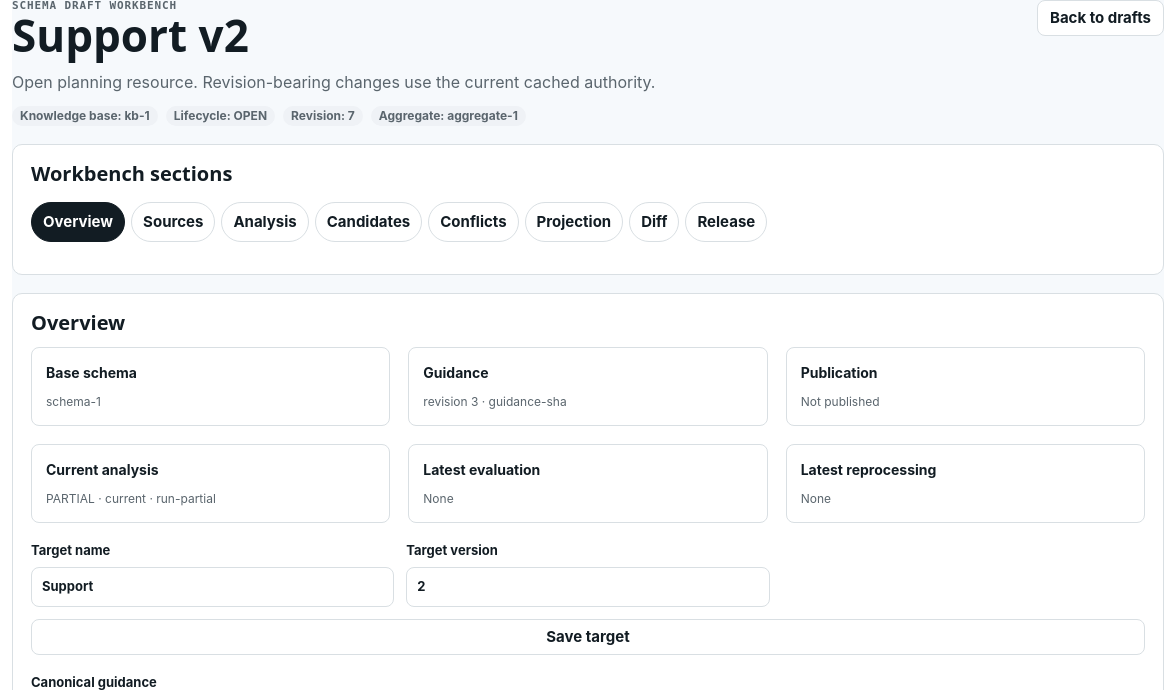
Scenario: SchemaDraftsPage › uses canRetry=true for Retry while preserving retryable=true diagnostics
Step 1. Click the tab "Analysis" → (265, 222), box [221,202,309,242]
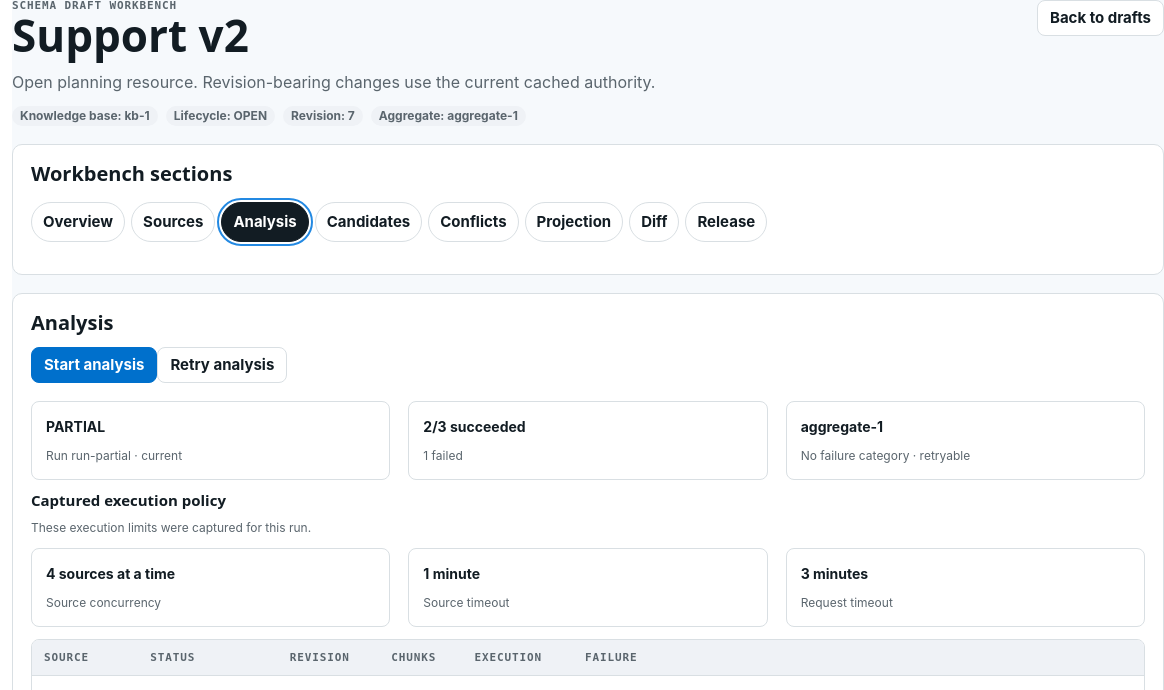
Expected: the heading "Captured execution policy" is shown, [31,490,226,510]
